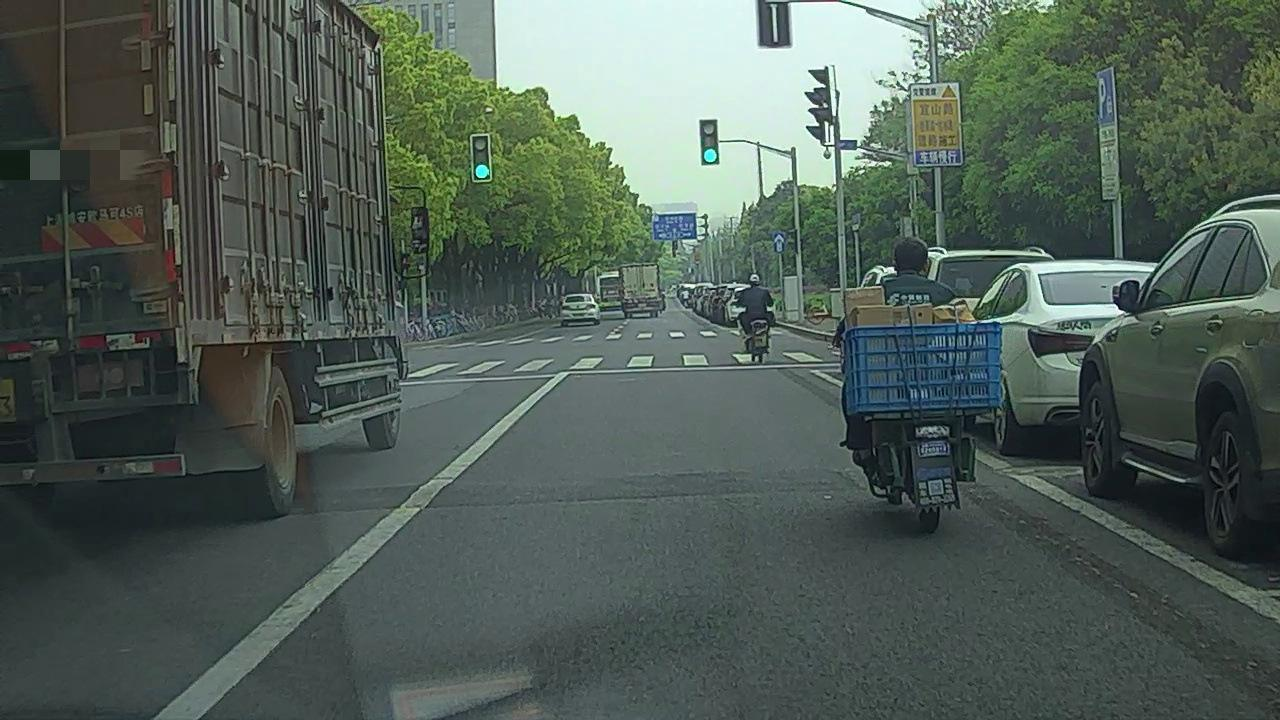traffic_light: (472, 136, 491, 181), (700, 120, 719, 165)
